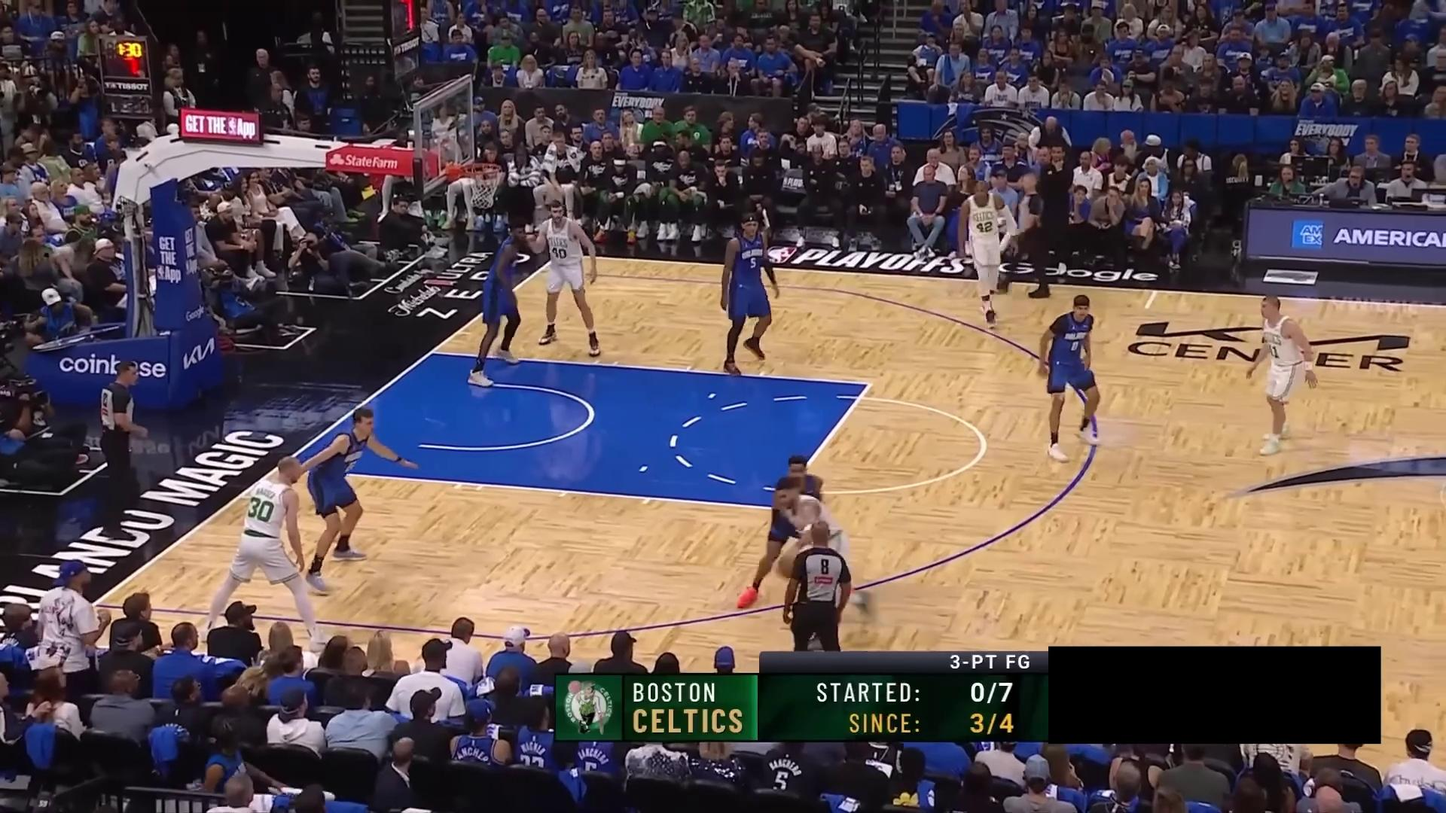ball: (776, 551, 804, 581)
number: (247, 495, 275, 523), (550, 246, 568, 261), (976, 220, 994, 234), (1070, 339, 1080, 352), (749, 256, 757, 269)
player: (202, 452, 336, 655), (292, 403, 427, 592), (733, 453, 830, 611), (523, 200, 606, 361), (1244, 288, 1317, 465), (465, 221, 535, 386), (952, 179, 1023, 334), (1038, 291, 1100, 465), (718, 209, 782, 375)
player-in-possession: (766, 480, 882, 648)
referee: (776, 519, 855, 653), (92, 359, 149, 542), (990, 172, 1054, 300)
rim: (462, 162, 501, 177)
